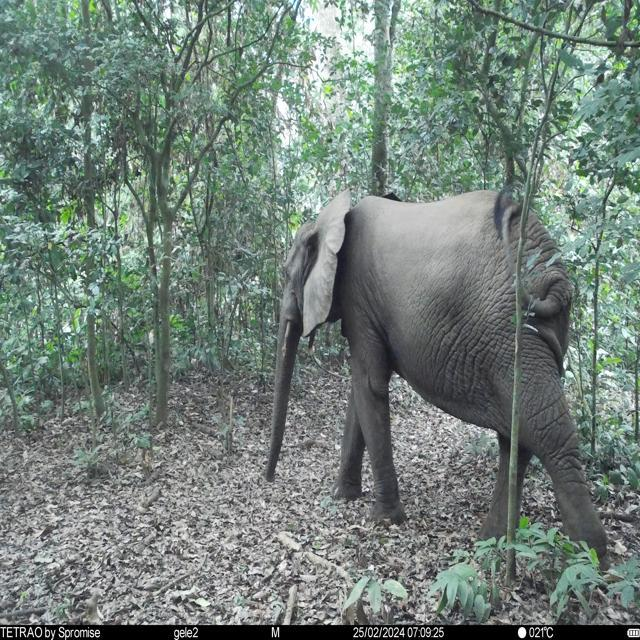ear: (302, 186, 354, 339)
elephant: (264, 186, 609, 562)
tusk: (282, 320, 292, 358), (306, 327, 318, 355)
